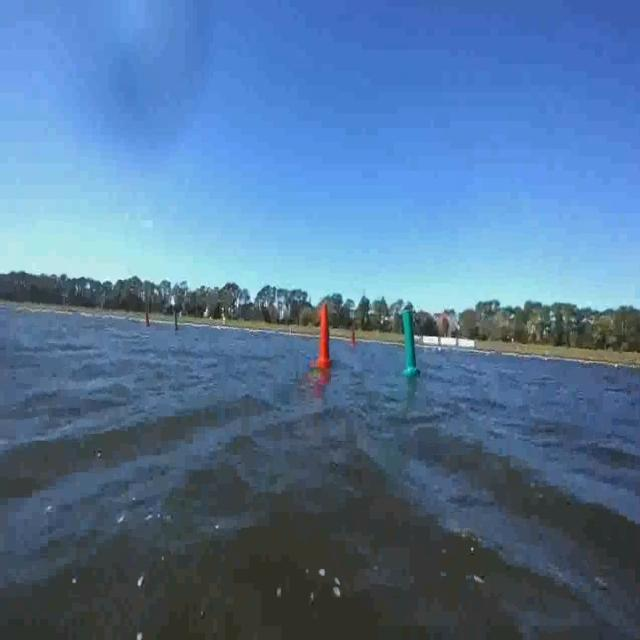green-column-buoy: (402, 310, 422, 378), (173, 310, 181, 333)
red-column-buoy: (314, 303, 332, 370), (350, 328, 358, 346), (145, 308, 152, 328)
